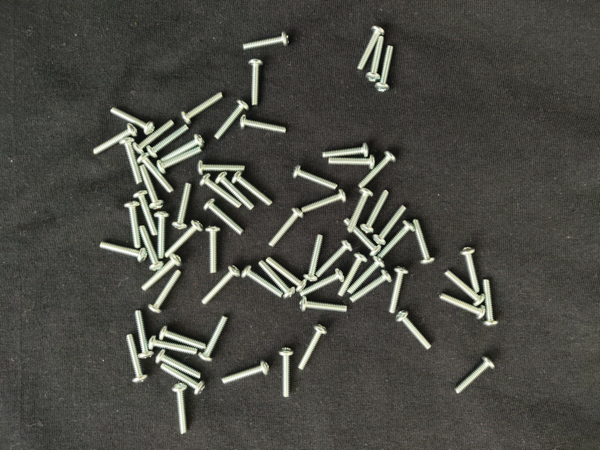longscrew: (202, 198, 246, 238), (443, 267, 485, 308), (200, 265, 242, 306), (163, 219, 206, 259), (454, 356, 498, 395), (215, 171, 256, 212), (136, 152, 176, 194), (395, 308, 434, 351), (198, 173, 242, 211), (148, 268, 183, 315), (346, 256, 387, 296), (375, 221, 417, 260), (140, 254, 183, 292), (264, 255, 307, 293), (231, 170, 274, 208), (146, 122, 191, 158), (342, 217, 382, 257), (257, 259, 296, 300), (159, 362, 206, 396), (357, 151, 399, 189), (197, 315, 230, 363), (241, 263, 285, 299), (132, 119, 176, 155), (180, 90, 225, 125), (438, 290, 487, 322), (297, 323, 329, 372), (267, 208, 306, 248), (213, 99, 250, 141), (92, 123, 139, 156), (349, 269, 393, 304), (372, 205, 409, 246), (155, 349, 203, 380), (314, 240, 353, 278), (336, 252, 368, 298), (360, 188, 391, 235), (108, 105, 155, 136), (357, 24, 387, 72), (297, 269, 346, 298), (158, 134, 206, 163), (346, 187, 375, 234), (133, 189, 160, 238), (158, 325, 207, 351), (118, 136, 144, 185), (125, 331, 149, 384), (138, 164, 165, 211), (221, 360, 271, 385), (138, 224, 164, 272), (156, 147, 204, 173), (292, 164, 339, 190), (412, 217, 436, 267), (98, 239, 148, 263), (133, 309, 156, 360), (300, 189, 348, 213), (387, 265, 410, 315), (374, 44, 397, 94), (459, 246, 482, 295), (363, 34, 386, 83), (148, 335, 198, 357), (303, 233, 325, 283), (239, 114, 289, 136), (172, 181, 194, 231), (170, 382, 190, 436), (242, 31, 292, 52), (299, 295, 349, 315), (123, 199, 143, 249), (482, 276, 500, 330), (278, 346, 295, 399), (196, 159, 246, 177), (204, 223, 221, 275), (248, 58, 265, 108), (325, 153, 377, 169), (153, 210, 169, 262), (321, 142, 372, 158)
